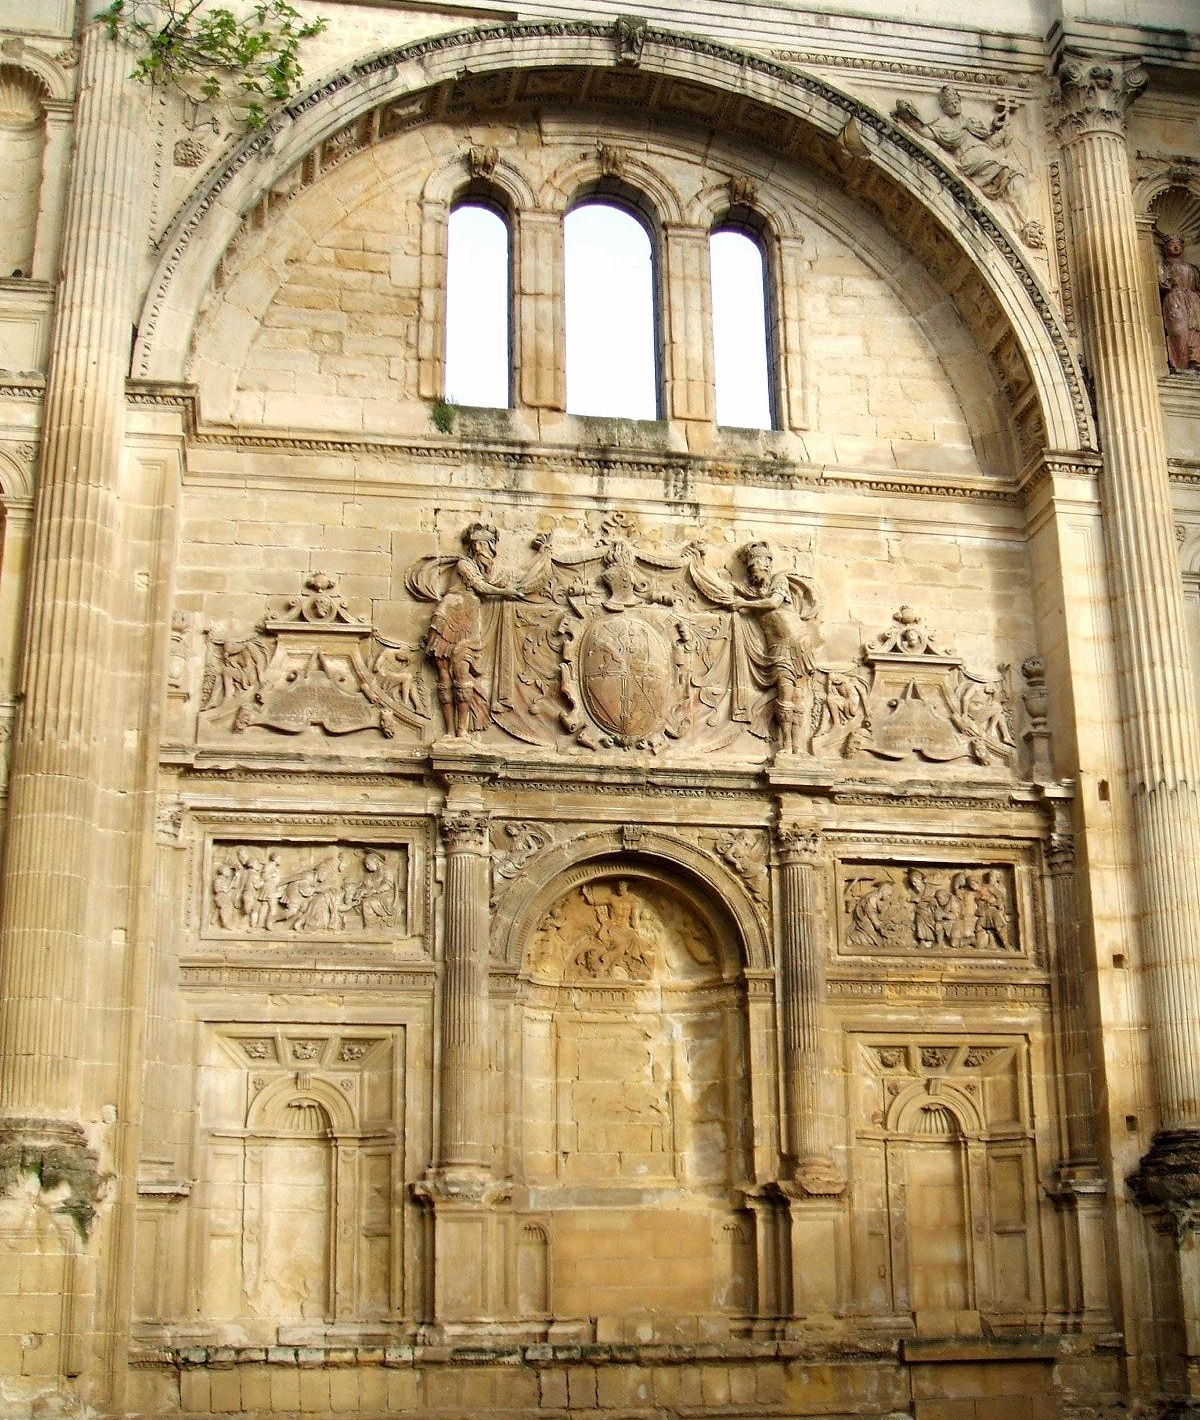arco-medio-punto: (148, 38, 1087, 548)
serliana: (177, 790, 1069, 1355)
